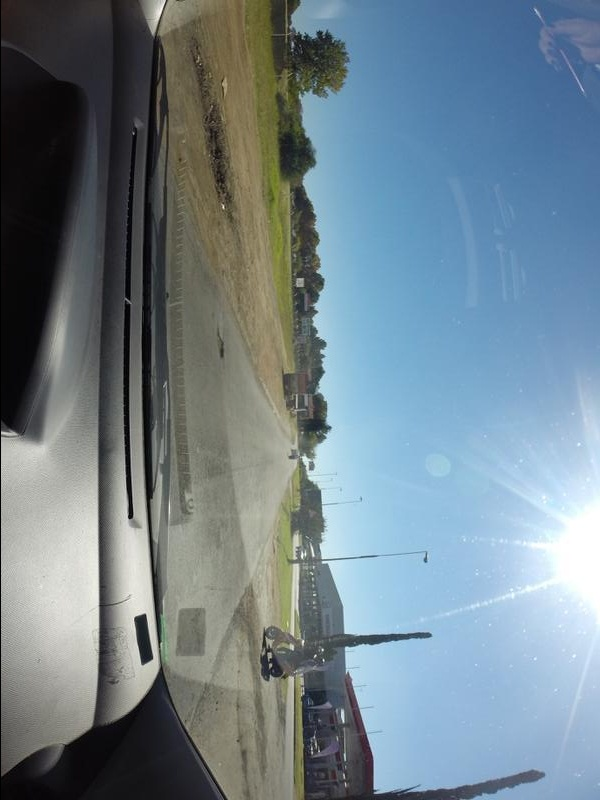pothole: (215, 327, 223, 371)
